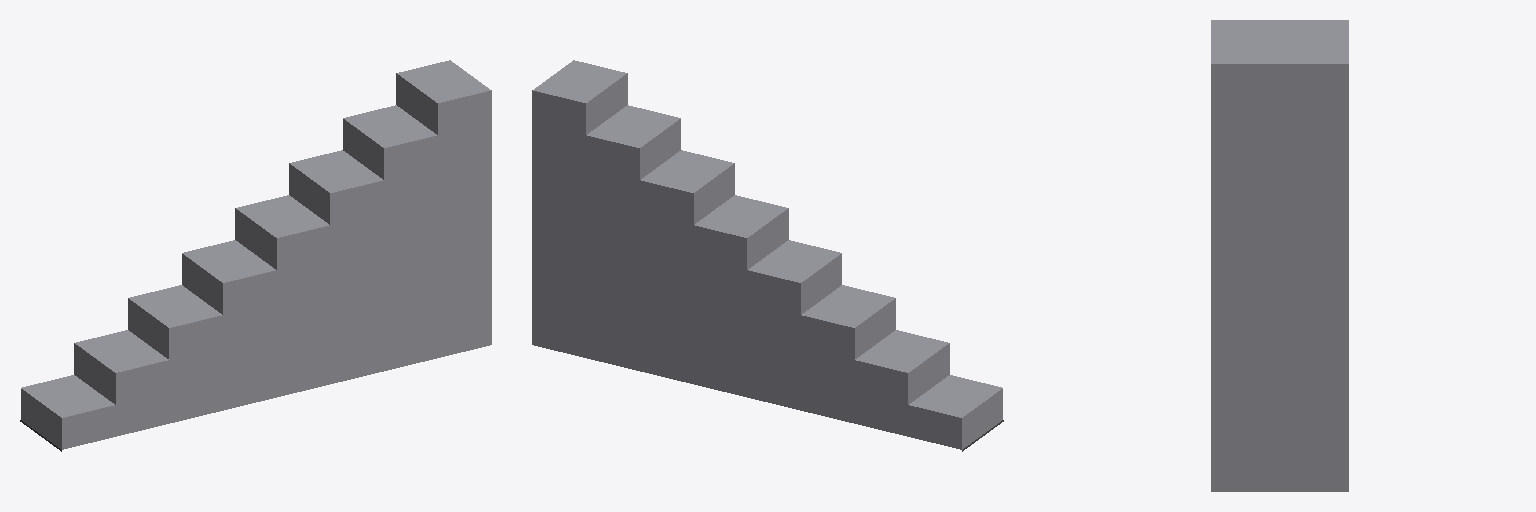
URDF robot description (escalera):
<?xml version="1.0"?>
<robot name="escalera">
  <!-- Dimensiones en metros: contrahuella 0.17, huella 0.30, ancho 0.40.
       Escalera de 8 peldaños; X = avance, Y = ancho, Z = altura. -->
  <link name="base">
    <visual>
      <origin xyz="0 0 -0.005"/>
      <geometry><box size="0.001 0.40 0.01"/></geometry>
      <material name="suelo"><color rgba="0.35 0.35 0.35 1"/></material>
    </visual>
    <collision>
      <origin xyz="0 0 -0.005"/>
      <geometry><box size="0.001 0.40 0.01"/></geometry>
    </collision>
  </link>

  <link name="peldaño_1">
    <visual>
      <geometry><box size="0.30 0.40 0.170"/></geometry>
      <material name="material_peldaño"><color rgba="0.65 0.65 0.68 1"/></material>
    </visual>
    <collision>
      <geometry><box size="0.30 0.40 0.170"/></geometry>
    </collision>
  </link>
  <joint name="union_peldaño_1" type="fixed">
    <parent link="base"/>
    <child link="peldaño_1"/>
    <origin xyz="0.150 0 0.085" rpy="0 0 0"/>
  </joint>

  <link name="peldaño_2">
    <visual>
      <geometry><box size="0.30 0.40 0.340"/></geometry>
      <material name="material_peldaño"><color rgba="0.65 0.65 0.68 1"/></material>
    </visual>
    <collision>
      <geometry><box size="0.30 0.40 0.340"/></geometry>
    </collision>
  </link>
  <joint name="union_peldaño_2" type="fixed">
    <parent link="base"/>
    <child link="peldaño_2"/>
    <origin xyz="0.450 0 0.170" rpy="0 0 0"/>
  </joint>

  <link name="peldaño_3">
    <visual>
      <geometry><box size="0.30 0.40 0.510"/></geometry>
      <material name="material_peldaño"><color rgba="0.65 0.65 0.68 1"/></material>
    </visual>
    <collision>
      <geometry><box size="0.30 0.40 0.510"/></geometry>
    </collision>
  </link>
  <joint name="union_peldaño_3" type="fixed">
    <parent link="base"/>
    <child link="peldaño_3"/>
    <origin xyz="0.750 0 0.255" rpy="0 0 0"/>
  </joint>

  <link name="peldaño_4">
    <visual>
      <geometry><box size="0.30 0.40 0.680"/></geometry>
      <material name="material_peldaño"><color rgba="0.65 0.65 0.68 1"/></material>
    </visual>
    <collision>
      <geometry><box size="0.30 0.40 0.680"/></geometry>
    </collision>
  </link>
  <joint name="union_peldaño_4" type="fixed">
    <parent link="base"/>
    <child link="peldaño_4"/>
    <origin xyz="1.050 0 0.340" rpy="0 0 0"/>
  </joint>

  <link name="peldaño_5">
    <visual>
      <geometry><box size="0.30 0.40 0.850"/></geometry>
      <material name="material_peldaño"><color rgba="0.65 0.65 0.68 1"/></material>
    </visual>
    <collision>
      <geometry><box size="0.30 0.40 0.850"/></geometry>
    </collision>
  </link>
  <joint name="union_peldaño_5" type="fixed">
    <parent link="base"/>
    <child link="peldaño_5"/>
    <origin xyz="1.350 0 0.425" rpy="0 0 0"/>
  </joint>

  <link name="peldaño_6">
    <visual>
      <geometry><box size="0.30 0.40 1.020"/></geometry>
      <material name="material_peldaño"><color rgba="0.65 0.65 0.68 1"/></material>
    </visual>
    <collision>
      <geometry><box size="0.30 0.40 1.020"/></geometry>
    </collision>
  </link>
  <joint name="union_peldaño_6" type="fixed">
    <parent link="base"/>
    <child link="peldaño_6"/>
    <origin xyz="1.650 0 0.510" rpy="0 0 0"/>
  </joint>

  <link name="peldaño_7">
    <visual>
      <geometry><box size="0.30 0.40 1.190"/></geometry>
      <material name="material_peldaño"><color rgba="0.65 0.65 0.68 1"/></material>
    </visual>
    <collision>
      <geometry><box size="0.30 0.40 1.190"/></geometry>
    </collision>
  </link>
  <joint name="union_peldaño_7" type="fixed">
    <parent link="base"/>
    <child link="peldaño_7"/>
    <origin xyz="1.950 0 0.595" rpy="0 0 0"/>
  </joint>

  <link name="peldaño_8">
    <visual>
      <geometry><box size="0.30 0.40 1.360"/></geometry>
      <material name="material_peldaño"><color rgba="0.65 0.65 0.68 1"/></material>
    </visual>
    <collision>
      <geometry><box size="0.30 0.40 1.360"/></geometry>
    </collision>
  </link>
  <joint name="union_peldaño_8" type="fixed">
    <parent link="base"/>
    <child link="peldaño_8"/>
    <origin xyz="2.250 0 0.680" rpy="0 0 0"/>
  </joint>
</robot>

--- Facts derived from the render (not from the file) ---
Views: 3 orthographic renders of the robot side by side, from view 1: azimuth 30°, elevation 25°; view 2: azimuth 150°, elevation 25°; view 3: azimuth 270°, elevation 25°.
Robot: escalera — 9 links, 8 joints (8 fixed); root link base; default pose: every joint at zero.
Links seen in each view (by area): view 1: peldaño_8, peldaño_7, peldaño_6, peldaño_5, peldaño_4, peldaño_3, peldaño_2, peldaño_1; view 2: peldaño_8, peldaño_7, peldaño_6, peldaño_5, peldaño_4, peldaño_3, peldaño_2, peldaño_1; view 3: peldaño_8.
Boxes of the visible links, x1,y1,x2,y2 form: peldaño_8: (396, 60, 491, 357); peldaño_7: (343, 105, 437, 370); peldaño_6: (289, 150, 383, 383); peldaño_5: (235, 195, 329, 396); peldaño_4: (182, 240, 276, 410); peldaño_3: (128, 285, 222, 423); peldaño_2: (74, 330, 168, 436); peldaño_1: (21, 375, 115, 449); peldaño_8: (532, 60, 627, 357); peldaño_7: (586, 105, 680, 370); peldaño_6: (640, 150, 734, 383); peldaño_5: (694, 195, 788, 396); peldaño_4: (747, 240, 841, 410); peldaño_3: (801, 285, 895, 423); peldaño_2: (855, 330, 949, 436); peldaño_1: (908, 375, 1002, 449); peldaño_8: (1211, 20, 1348, 491).
Bounding box of the posed robot: 2.4 × 0.4 × 1.37 m (x, y, z).
Geometry: primitives only (box / cylinder / sphere), no mesh files.
